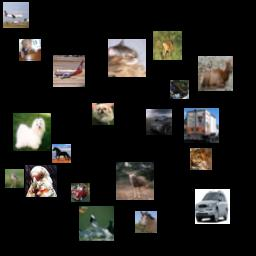airplane: (53, 55, 85, 87), (3, 2, 29, 28)
automobile: (195, 189, 230, 224), (146, 109, 172, 135), (71, 183, 90, 202)
bird: (79, 206, 114, 241), (25, 165, 57, 197), (5, 169, 24, 188)
cat: (108, 39, 146, 77)
deer: (116, 162, 154, 200), (198, 56, 233, 91), (153, 31, 182, 60)
dog: (13, 113, 51, 151), (92, 103, 114, 125), (19, 39, 41, 61)
frog: (190, 148, 212, 170), (170, 80, 189, 99)
truck: (184, 108, 219, 143)
